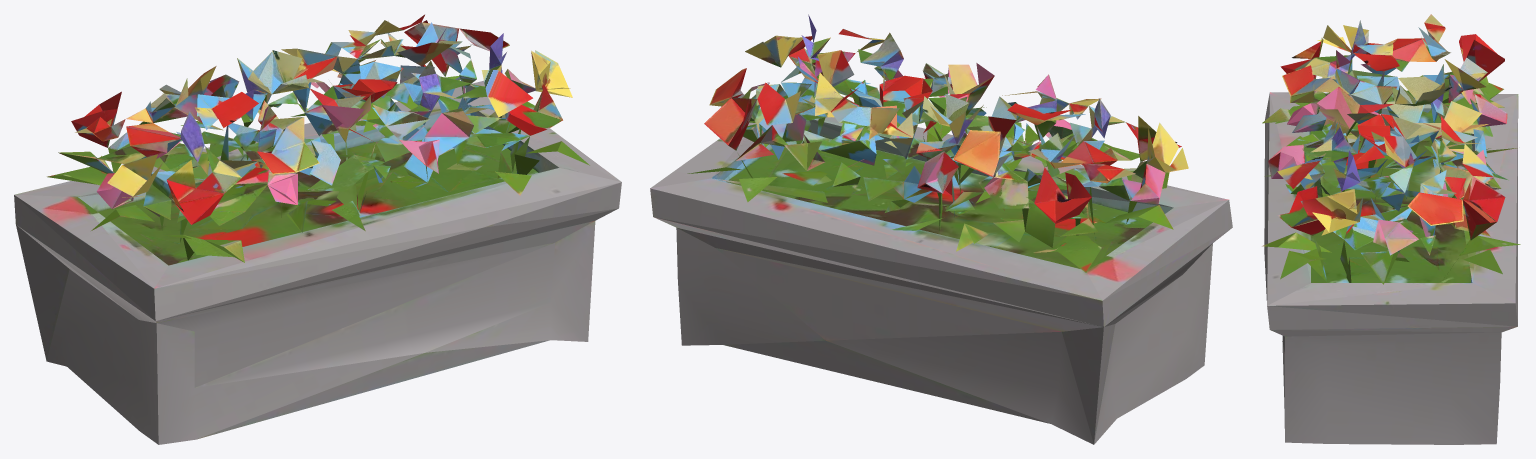
The model's file is planter.glb.
The picture shows the model from 3 angles, left to right: view 1: azimuth 30°, elevation 25°; view 2: azimuth 150°, elevation 25°; view 3: azimuth 270°, elevation 25°; orthographic projection. The views are drawn at different scales.
Size of the model in its own units: 1.49 by 0.9 by 0.7775.
1 material, 1 textured.
